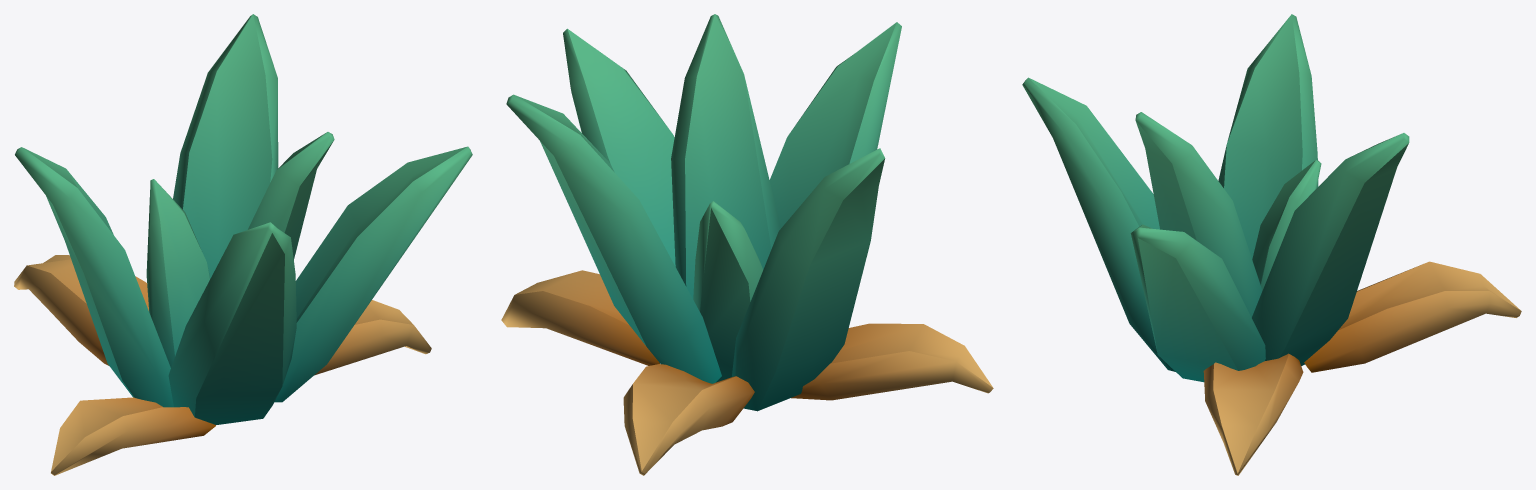
3 renders of one model, left to right at view 1: azimuth 30°, elevation 25°; view 2: azimuth 150°, elevation 25°; view 3: azimuth 270°, elevation 25°, orthographic. The views are drawn at different scales.
Visible parts, largest first — view 1: LOD 1_14127737254430187619_3e1162219392c0d418059c435572ff39; view 2: LOD 1_14127737254430187619_3e1162219392c0d418059c435572ff39; view 3: LOD 1_14127737254430187619_3e1162219392c0d418059c435572ff39.
Part boxes in pixels (x1=…): LOD 1_14127737254430187619_3e1162219392c0d418059c435572ff39: x1=14, y1=14, x2=472, y2=475; LOD 1_14127737254430187619_3e1162219392c0d418059c435572ff39: x1=501, y1=14, x2=993, y2=475; LOD 1_14127737254430187619_3e1162219392c0d418059c435572ff39: x1=1022, y1=14, x2=1521, y2=475.
Size of the model in its own units: 0.9316 by 0.6423 by 0.9602.
